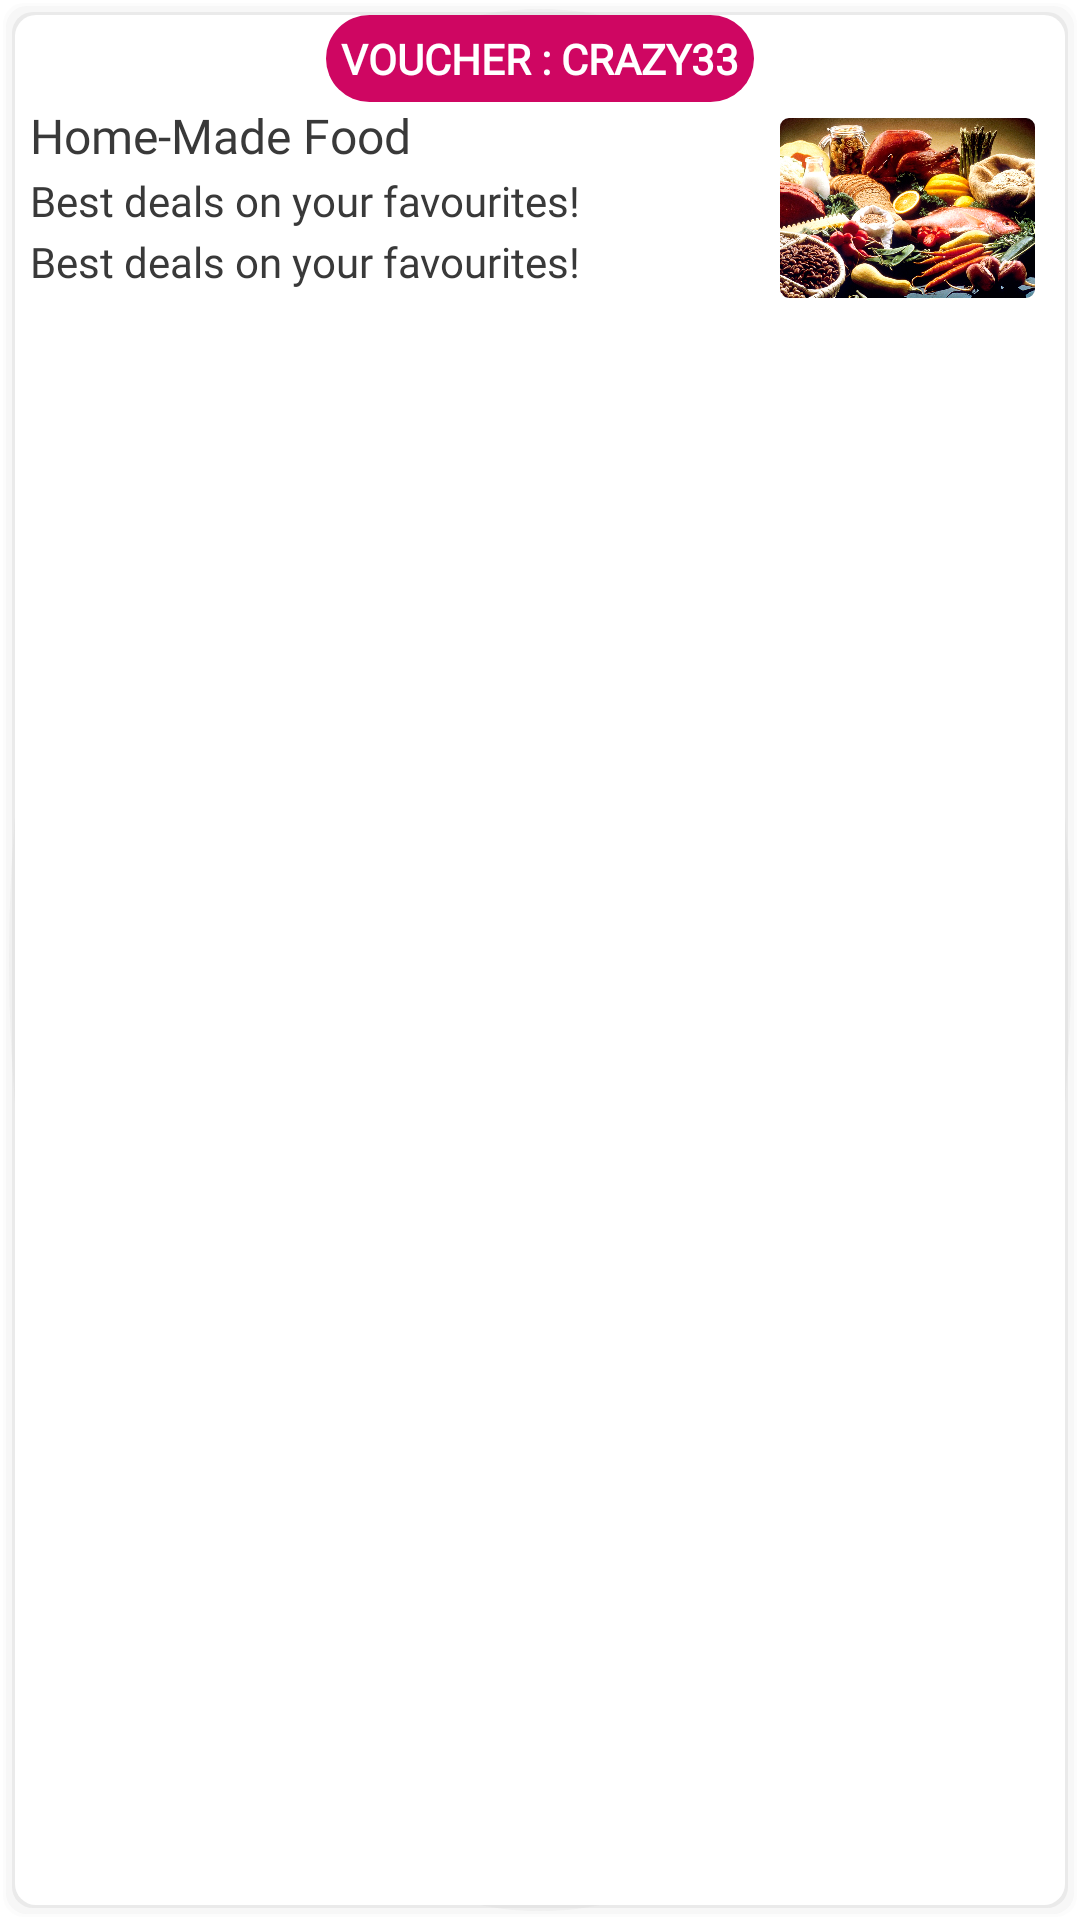

Locate icon controls on the screen. Image size 1080*1920, boxes as (x1, y1, x2, y2).
food: (780, 118, 1035, 298)
